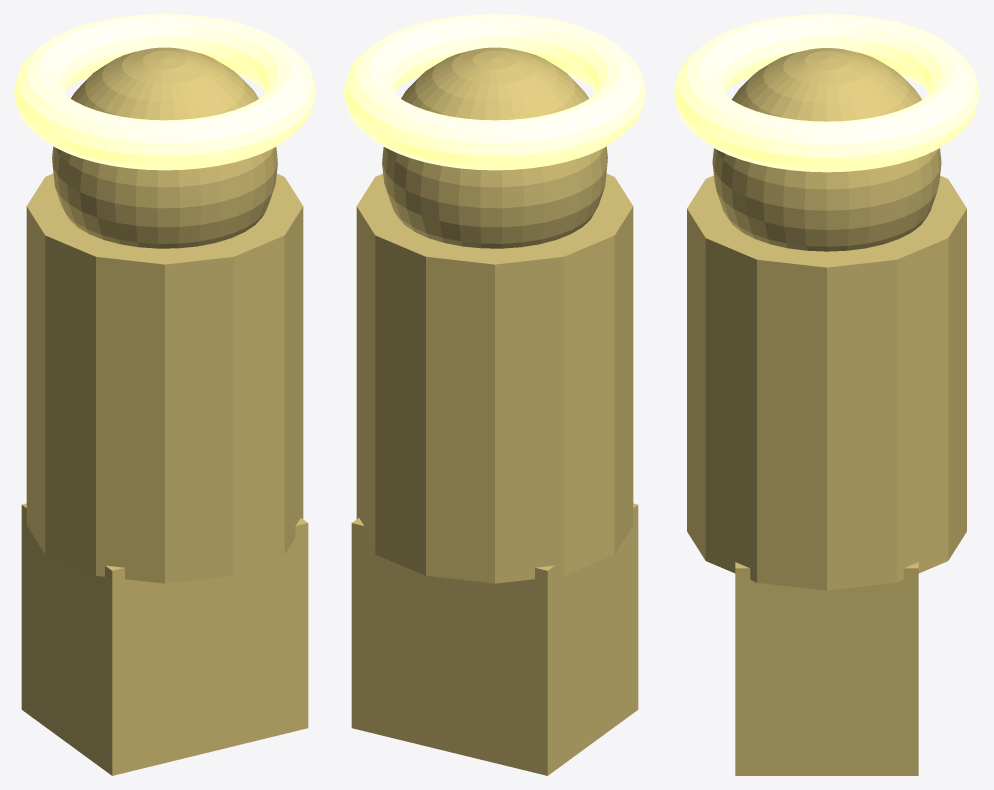
The model's file is WatchmansTotem.glb.
3 views of the same model, side by side, from view 1: azimuth 30°, elevation 25°; view 2: azimuth 150°, elevation 25°; view 3: azimuth 270°, elevation 25° (orthographic).
Parts seen in each view (by area): view 1: WatchmansTotem; view 2: WatchmansTotem; view 3: WatchmansTotem.
Part boxes in pixels (left/top/right/bottom): WatchmansTotem: left=14, top=14, right=315, bottom=775; WatchmansTotem: left=344, top=14, right=645, bottom=775; WatchmansTotem: left=674, top=14, right=979, bottom=775.
Bounding box in the file's own units: 1.2 × 2.9 × 1.2.
